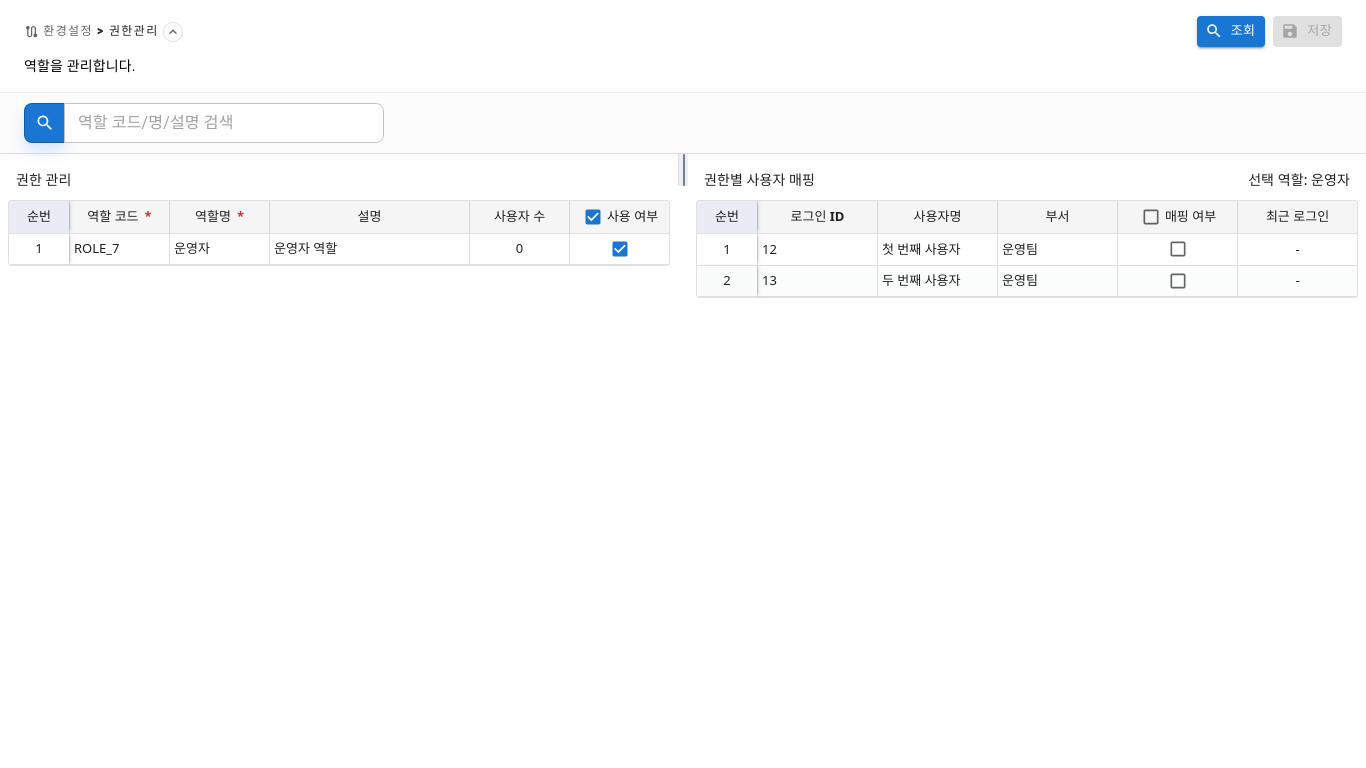
Test: RoleManagementPage notifications › does not duplicate a successful mapping operation when a later mapping save fails and retries
Click the checkbox named "매핑 여부 12" at (1178, 249), box [1168, 239, 1188, 259]
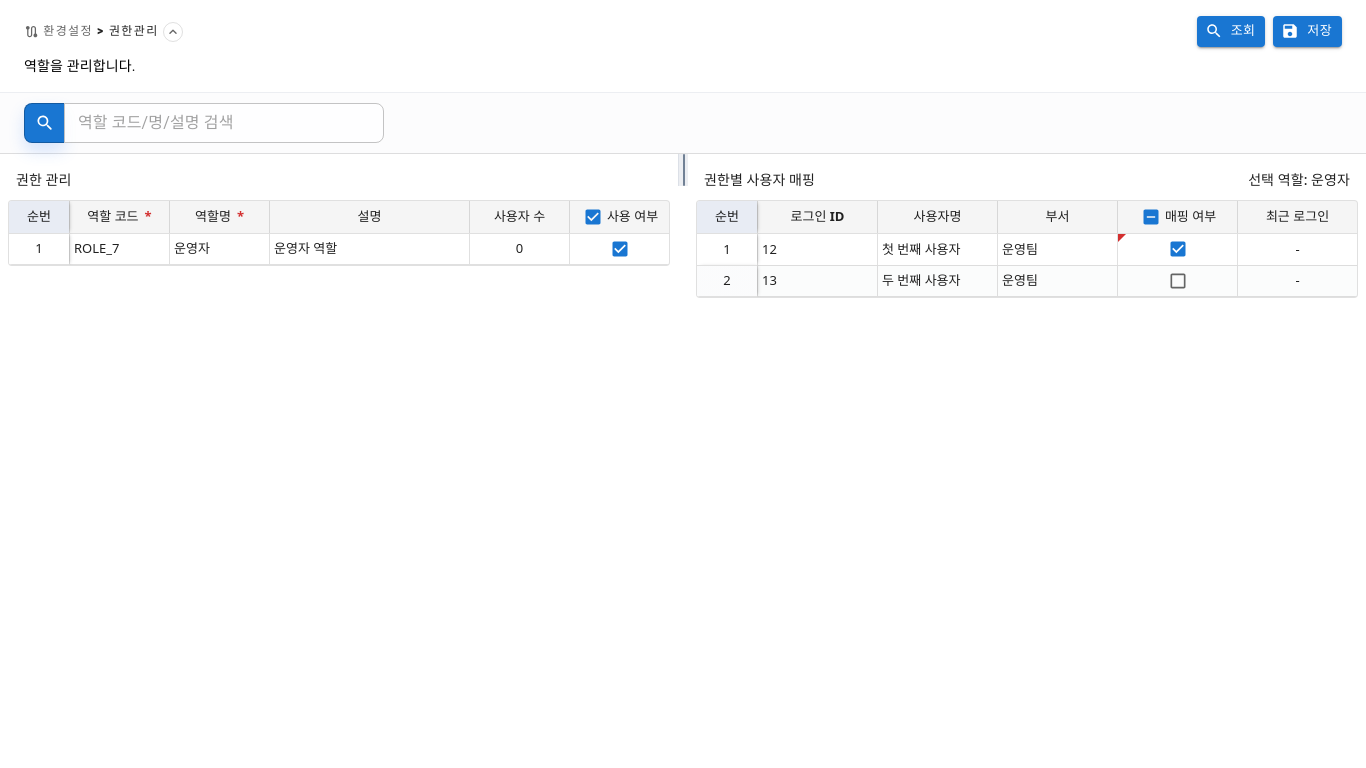
Click the checkbox named "매핑 여부 13" at (1178, 281), box [1168, 271, 1188, 291]
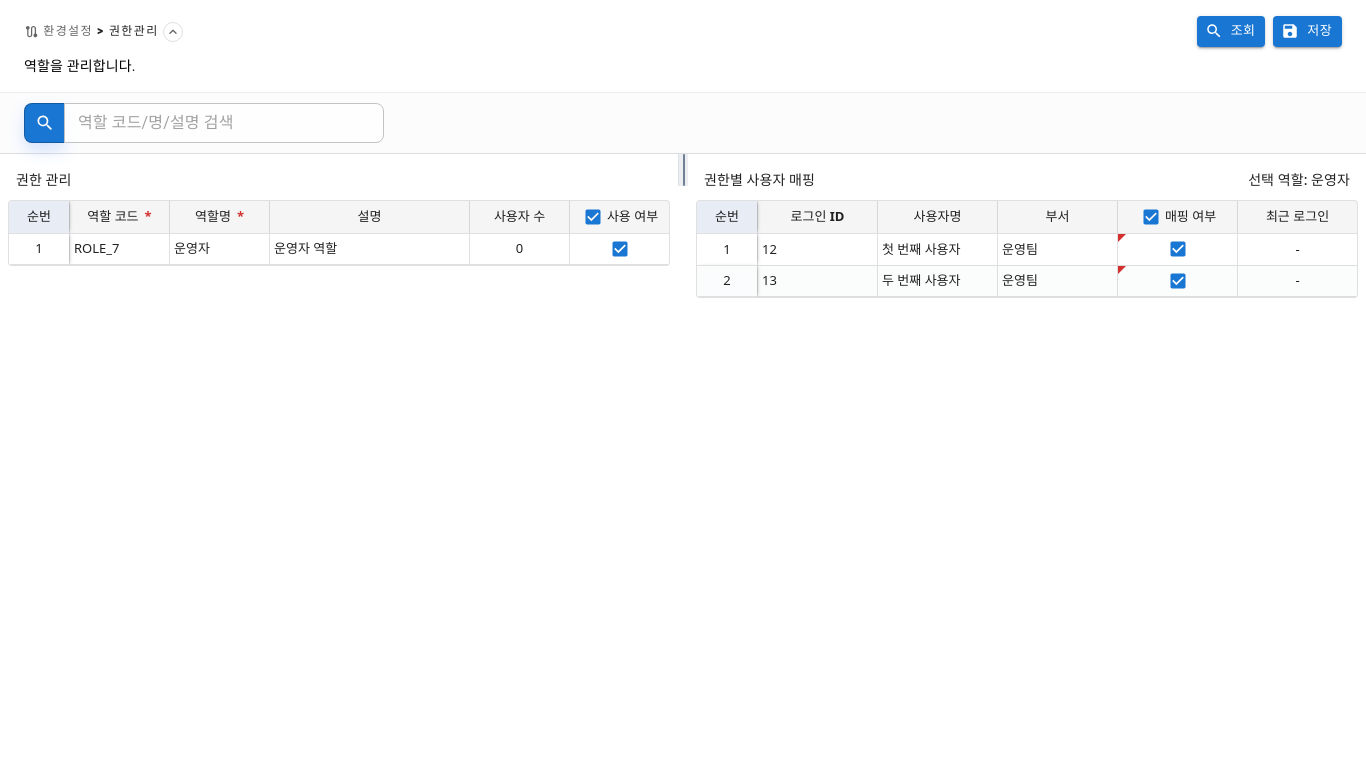
Click the button "저장" at (1308, 31), box [1273, 16, 1342, 47]
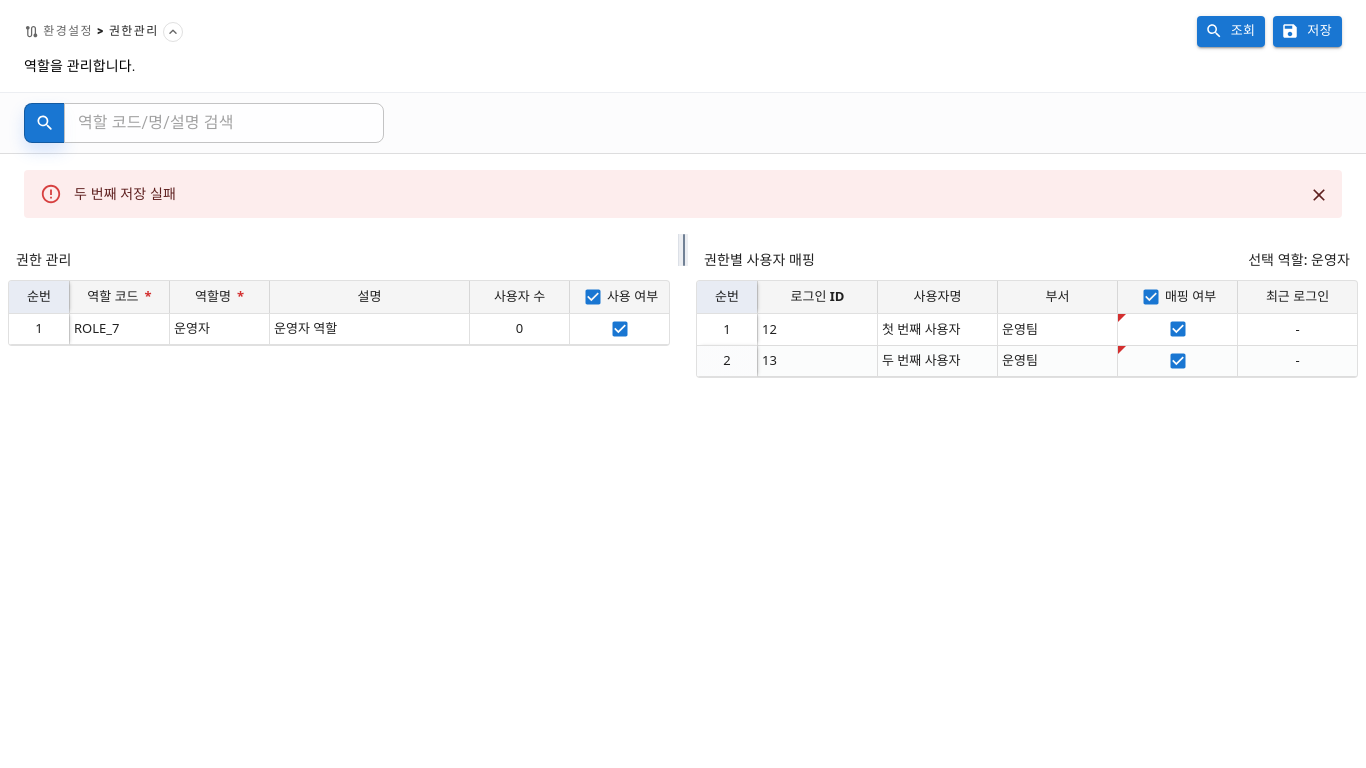
Expected: the text "두 번째 저장 실패" is shown, [74, 186, 176, 202]
Click the button "저장" at (1308, 31), box [1273, 16, 1342, 47]
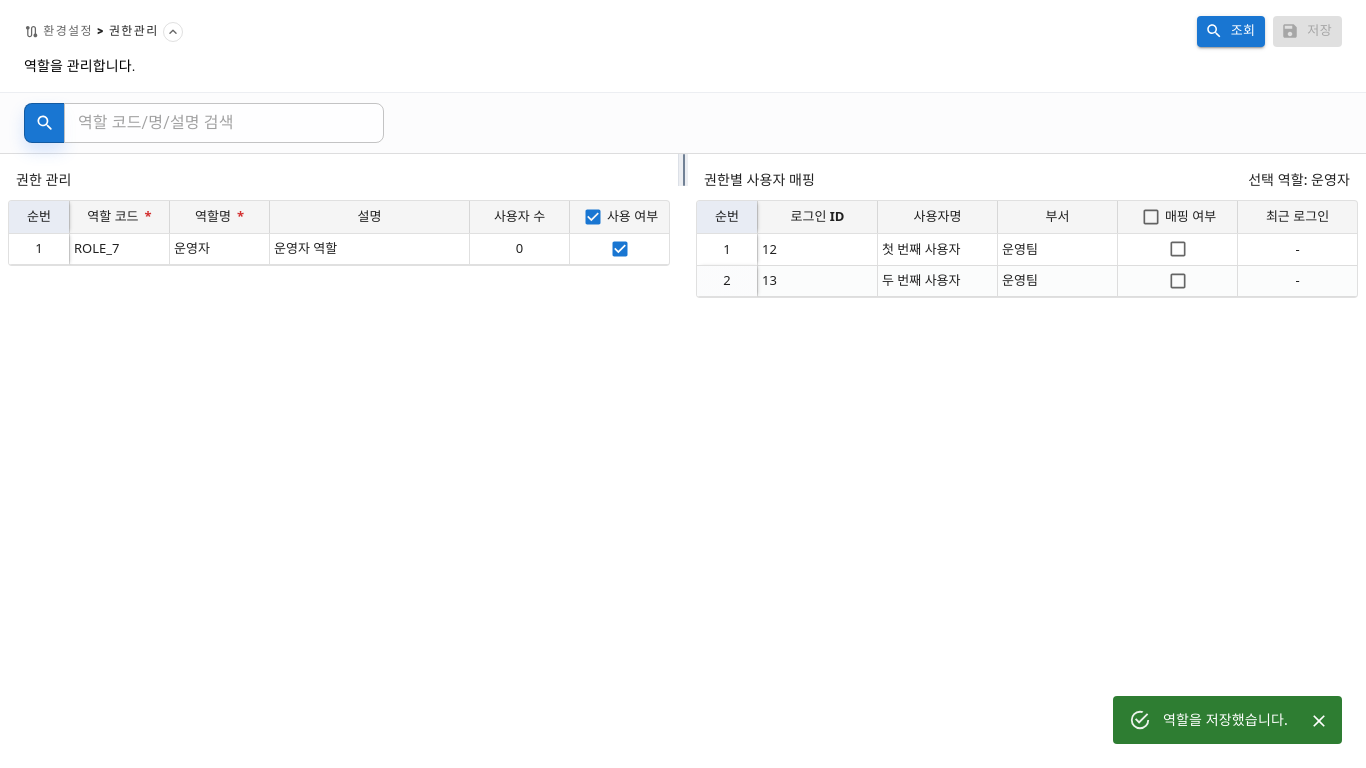
Expected: the button "저장" is disabled, [1273, 16, 1342, 47]
